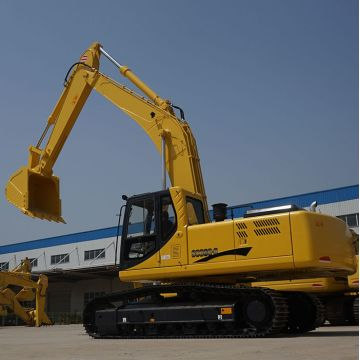backhoe: (13, 44, 353, 340)
